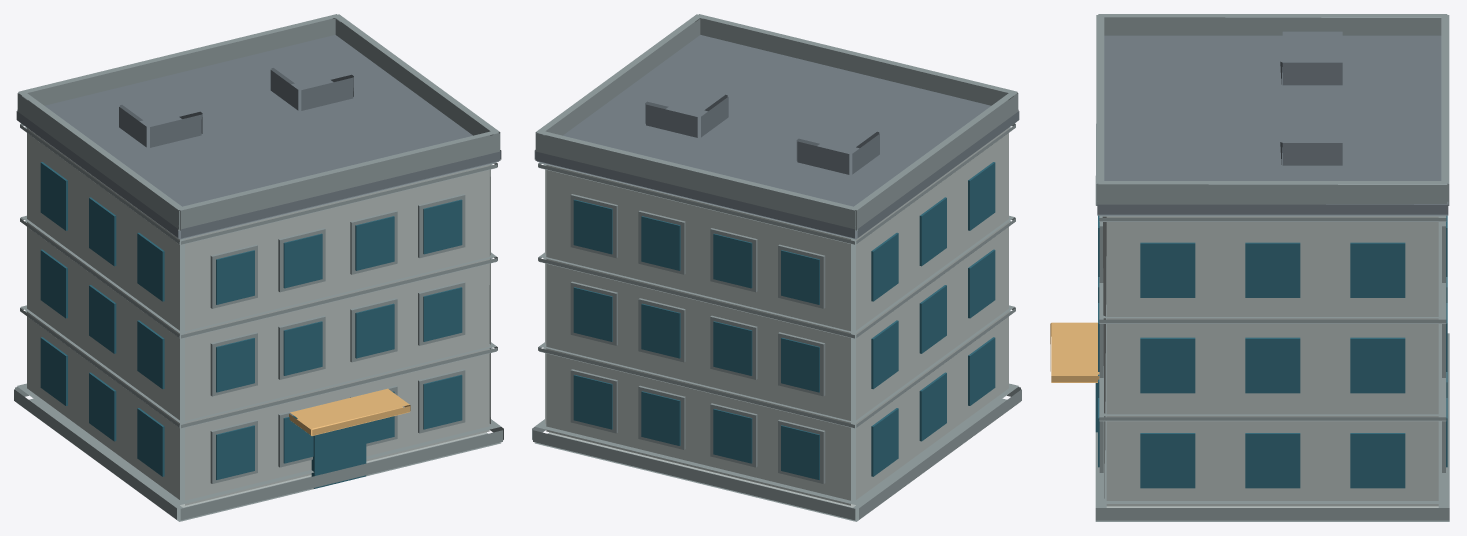
Rendered from cityblock.glb.
The picture shows the model from 3 angles, left to right: view 1: azimuth 30°, elevation 25°; view 2: azimuth 150°, elevation 25°; view 3: azimuth 270°, elevation 25°; orthographic projection. The views are drawn at different scales.
Parts seen in each view (by area): view 1: Apartment body, Roof, Foundation, Parapet.002, Parapet.003, Parapet, Floor belt.001, Floor belt, Parapet.001, Roof service unit, Roof service unit.001, Awning (+33 smaller); view 2: Apartment body, Roof, Foundation, Parapet.003, Parapet.002, Parapet, Floor belt.001, Floor belt, Parapet.001, Roof service unit.001, Roof service unit, Floor belt.002 (+33 smaller); view 3: Apartment body, Roof, Parapet.001, Foundation, Parapet, Roof service unit, Roof service unit.001, Floor belt, Floor belt.001, Side window.012, Side window.013, Side window.014 (+10 smaller).
Part boxes in pixels (left/top/right/bottom): Apartment body: left=27, top=128, right=490, bottom=507; Roof: left=16, top=35, right=501, bottom=239; Foundation: left=14, top=383, right=503, bottom=521; Parapet.002: left=177, top=130, right=499, bottom=230; Parapet.003: left=18, top=14, right=340, bottom=105; Parapet: left=17, top=92, right=184, bottom=230; Floor belt.001: left=20, top=215, right=497, bottom=338; Floor belt: left=20, top=305, right=497, bottom=428; Parapet.001: left=333, top=14, right=500, bottom=151; Roof service unit: left=119, top=91, right=202, bottom=148; Roof service unit.001: left=270, top=54, right=353, bottom=112; Awning: left=289, top=388, right=410, bottom=435; Apartment body: left=545, top=128, right=1008, bottom=507; Roof: left=534, top=35, right=1019, bottom=239; Foundation: left=532, top=383, right=1021, bottom=521; Parapet.003: left=536, top=130, right=858, bottom=230; Parapet.002: left=695, top=14, right=1017, bottom=105; Parapet: left=851, top=92, right=1018, bottom=230; Floor belt.001: left=538, top=215, right=1015, bottom=338; Floor belt: left=538, top=305, right=1015, bottom=428; Parapet.001: left=535, top=14, right=702, bottom=151; Roof service unit.001: left=645, top=81, right=728, bottom=139; Roof service unit: left=796, top=118, right=879, bottom=176; Floor belt.002: left=538, top=123, right=1015, bottom=244; Apartment body: left=1102, top=216, right=1438, bottom=507; Roof: left=1097, top=35, right=1448, bottom=215; Parapet.001: left=1098, top=181, right=1447, bottom=204; Foundation: left=1095, top=333, right=1449, bottom=521; Parapet: left=1098, top=14, right=1447, bottom=35; Roof service unit: left=1280, top=31, right=1342, bottom=86; Roof service unit.001: left=1280, top=112, right=1342, bottom=166; Floor belt: left=1099, top=324, right=1446, bottom=421; Floor belt.001: left=1099, top=222, right=1446, bottom=323; Side window.012: left=1140, top=337, right=1195, bottom=393; Side window.013: left=1245, top=337, right=1300, bottom=393; Side window.014: left=1350, top=337, right=1405, bottom=393.
Size of the model in its own units: 8.2 by 7.7 by 8.05.
